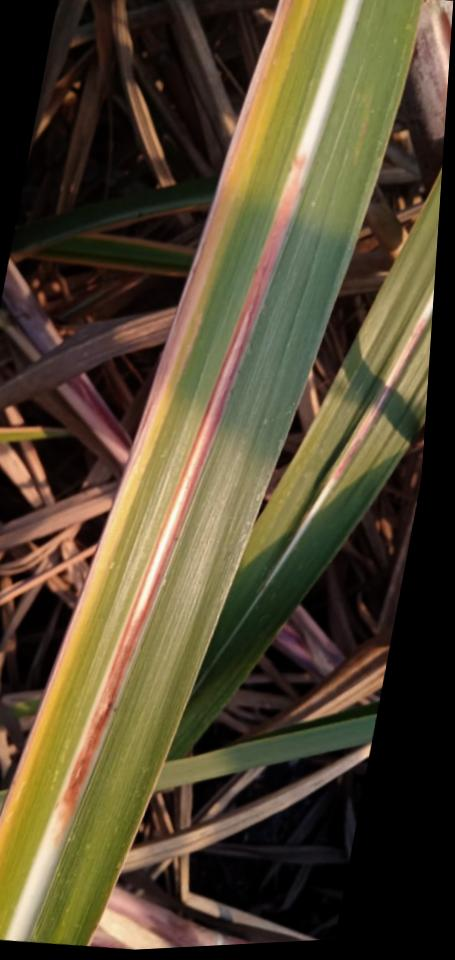RedRot: (51, 151, 306, 851)
